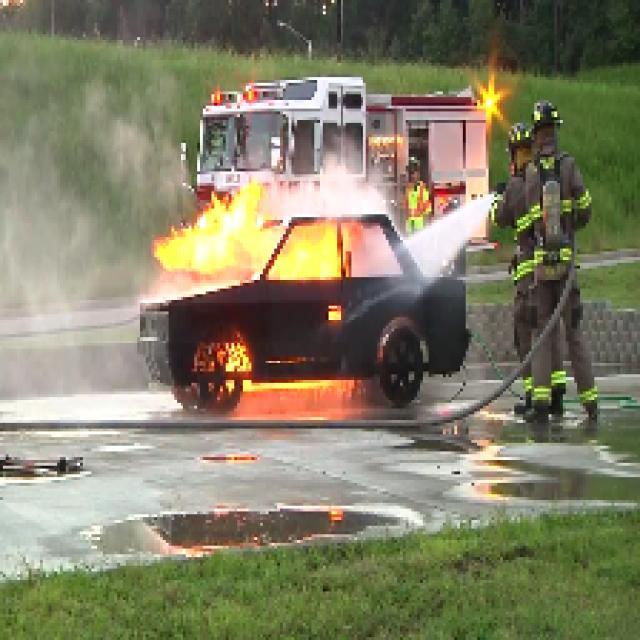Fire: (156, 180, 352, 289), (222, 338, 363, 400)
Smoke: (1, 73, 191, 424)
